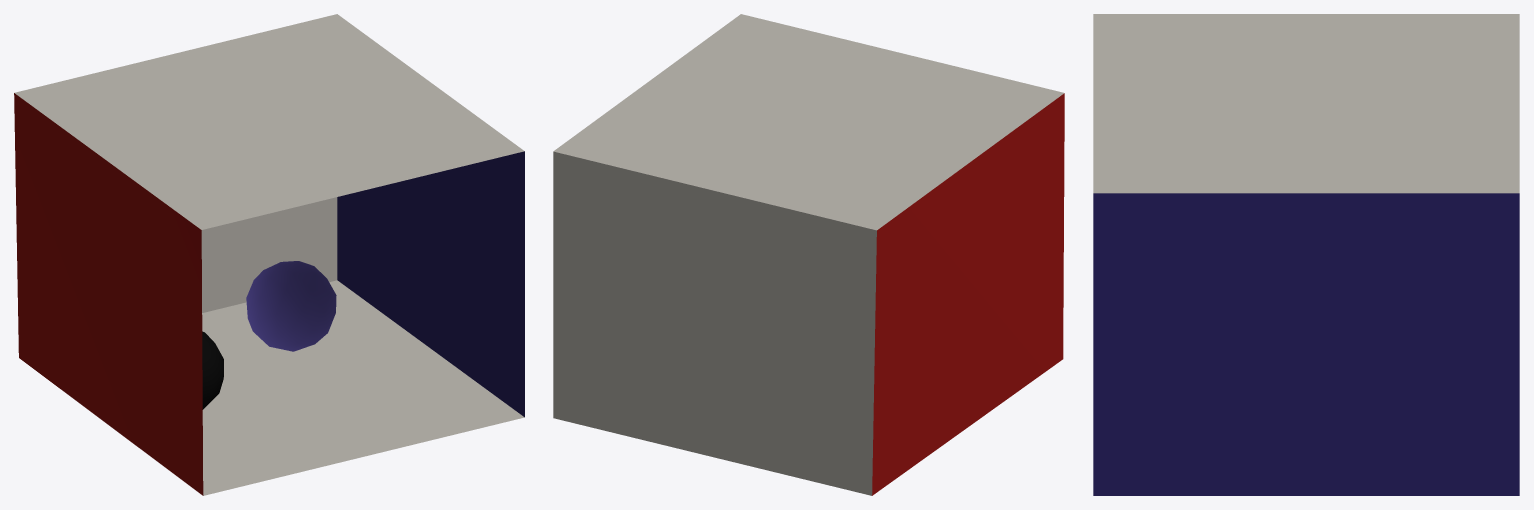
Rendered from CornellBox-Sphere-1222.obj.
3 renders of one model, left to right at view 1: azimuth 30°, elevation 25°; view 2: azimuth 150°, elevation 25°; view 3: azimuth 270°, elevation 25°, orthographic. The views are drawn at different scales.
Parts seen in each view (by area): view 1: ceiling, leftWall, floor, rightWall, backWall, leftSphere, rightSphere; view 2: backWall, ceiling, leftWall; view 3: rightWall, ceiling.
Boxes of the visible parts, x1,y1,x2,y2 form: ceiling: [14, 14, 524, 229]; leftWall: [14, 93, 203, 495]; floor: [202, 280, 524, 495]; rightWall: [337, 151, 524, 417]; backWall: [201, 197, 337, 312]; leftSphere: [246, 261, 336, 351]; rightSphere: [202, 331, 223, 409]; backWall: [553, 151, 876, 495]; ceiling: [553, 14, 1064, 230]; leftWall: [872, 93, 1064, 495]; rightWall: [1093, 193, 1519, 495]; ceiling: [1093, 14, 1519, 193].
Bounding box in the file's own units: 2.02 × 1.59 × 2.03.
